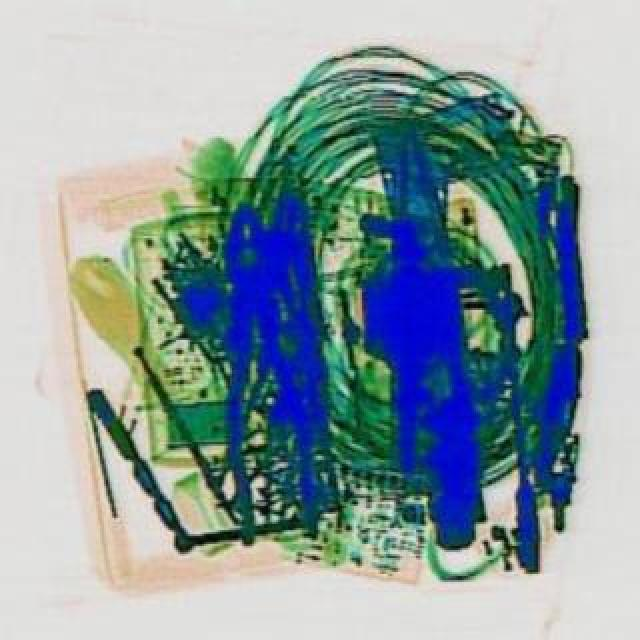wrench: (200, 198, 320, 542)
